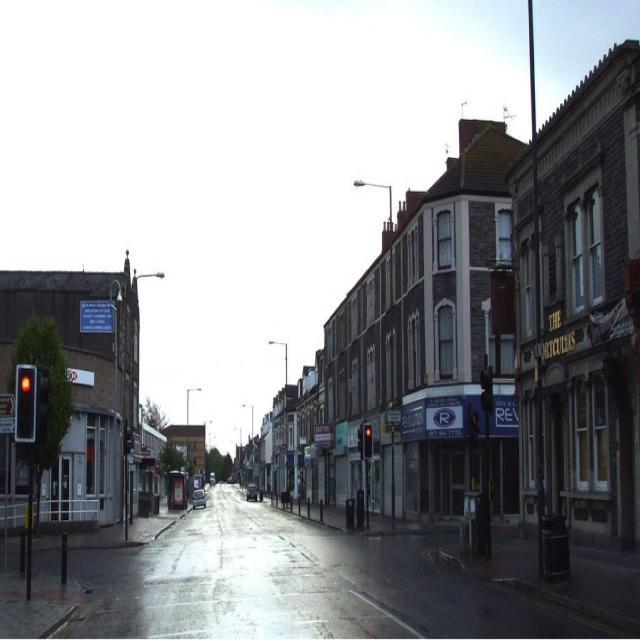traffic light: (13, 365, 37, 441), (364, 424, 373, 457)
